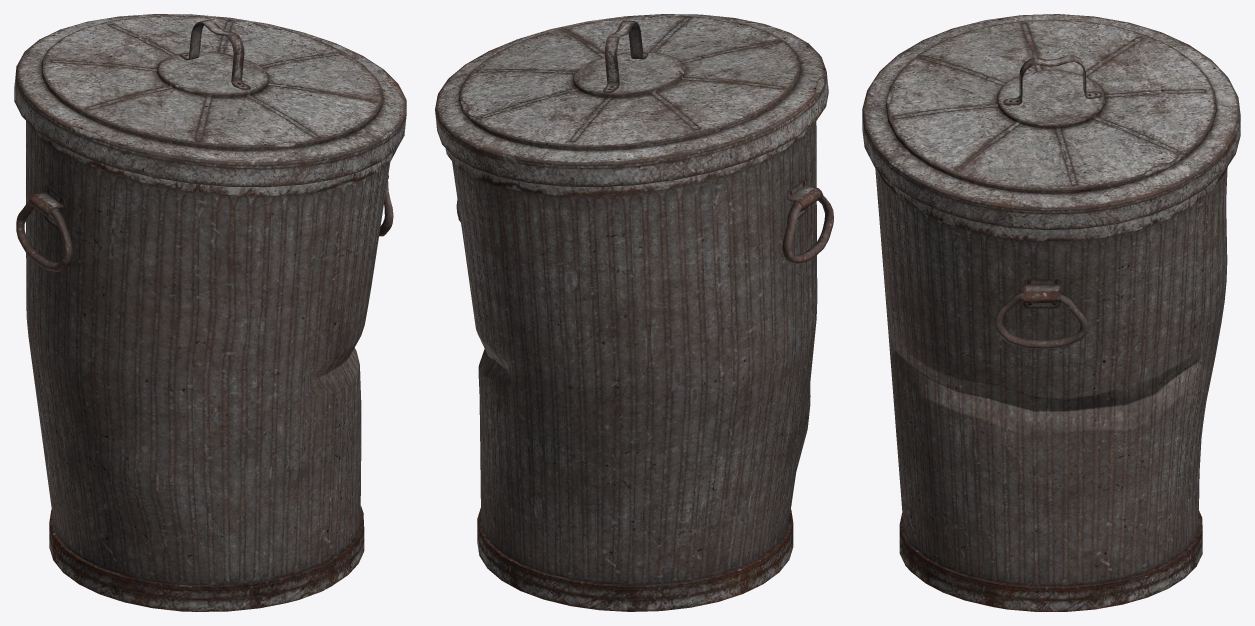
The model's file is trashcan3.glb.
3 views of the same model, side by side, from view 1: azimuth 30°, elevation 25°; view 2: azimuth 150°, elevation 25°; view 3: azimuth 270°, elevation 25° (orthographic). The views are drawn at different scales.
Visible parts, largest first — view 1: Object_6; view 2: Object_6; view 3: Object_6.
Boxes of the visible parts, x1=… form: Object_6: x1=14, y1=14, x2=406, y2=611; Object_6: x1=435, y1=14, x2=833, y2=611; Object_6: x1=862, y1=14, x2=1240, y2=611.
Bounding box in the file's own units: 0.5345 × 0.7521 × 0.5206.
Materials: 1 (1 with a texture image).
